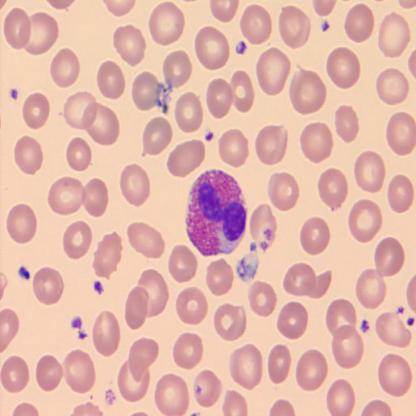Eosinophil: (183, 167, 249, 255)
